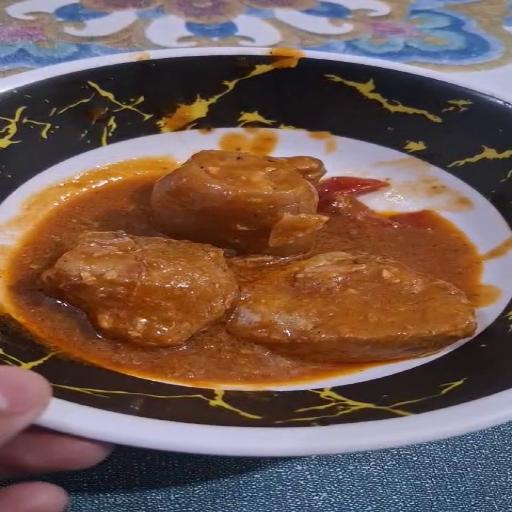pork caldereta: (36, 139, 500, 388)
